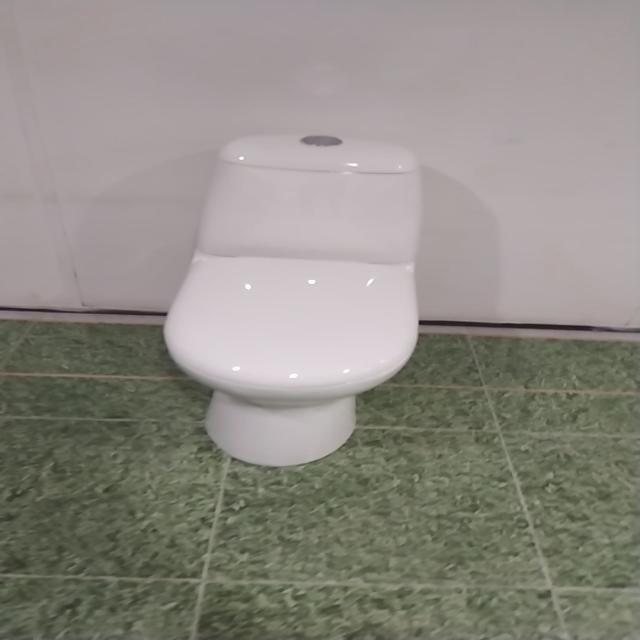toilet: (161, 132, 423, 466)
